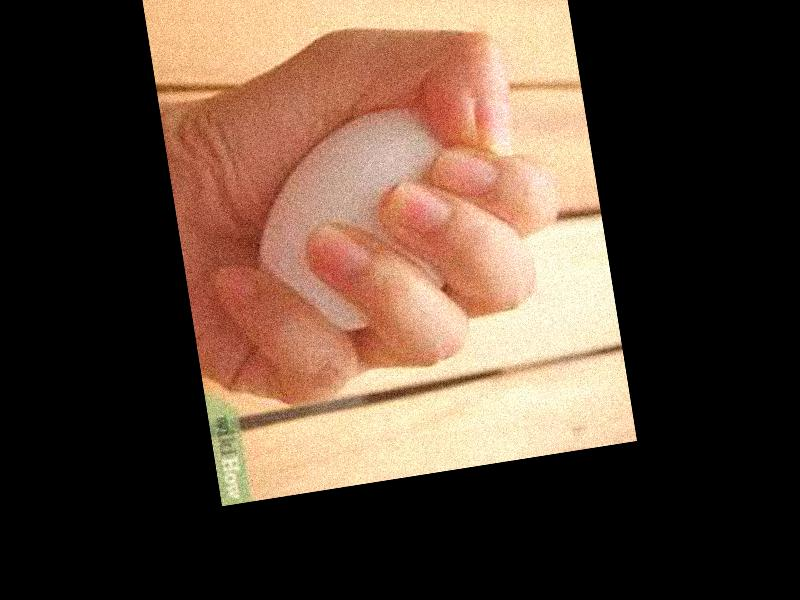Eggs: (239, 98, 490, 346)
